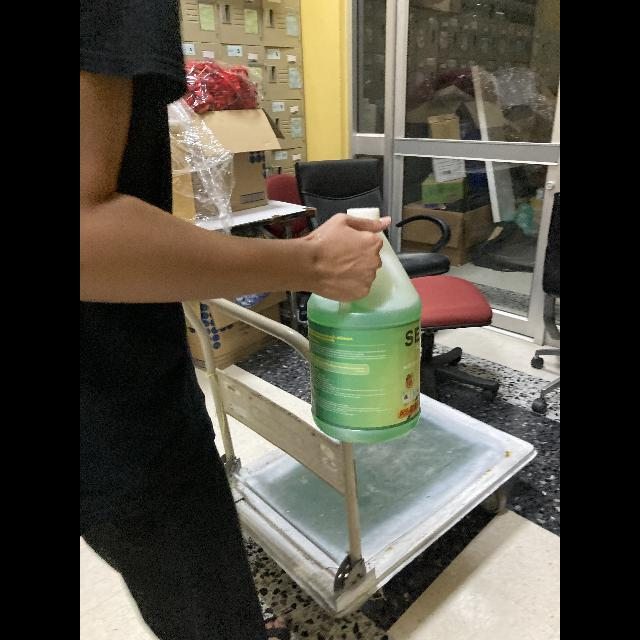chemical_plastic_gallon: (303, 205, 427, 449)
